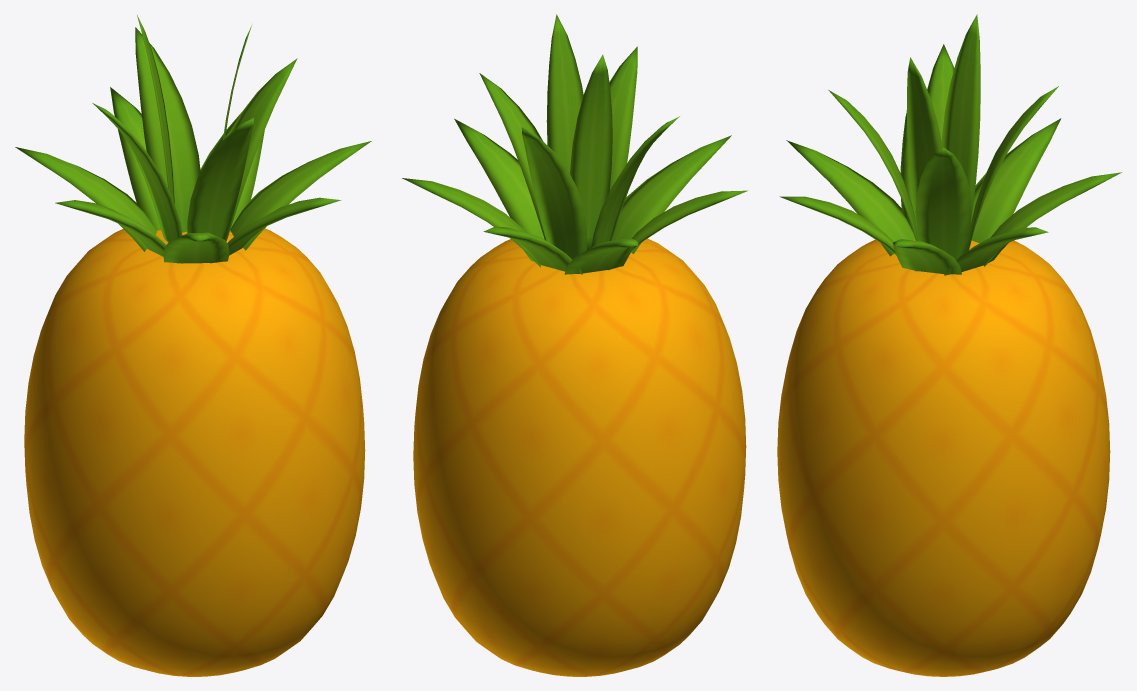
File: Pineapple.fbx
3 views of the same model, side by side, from view 1: azimuth 30°, elevation 25°; view 2: azimuth 150°, elevation 25°; view 3: azimuth 270°, elevation 25° (orthographic). The views are drawn at different scales.
Visible parts, largest first — view 1: Pineapple_Geometry; view 2: Pineapple_Geometry; view 3: Pineapple_Geometry.
Boxes of the visible parts, x1,y1,x2,y2 form: Pineapple_Geometry: (15,15,371,676); Pineapple_Geometry: (402,14,747,676); Pineapple_Geometry: (777,14,1121,676).
Bounding box in the file's own units: 0.1656 × 0.324 × 0.1639.
